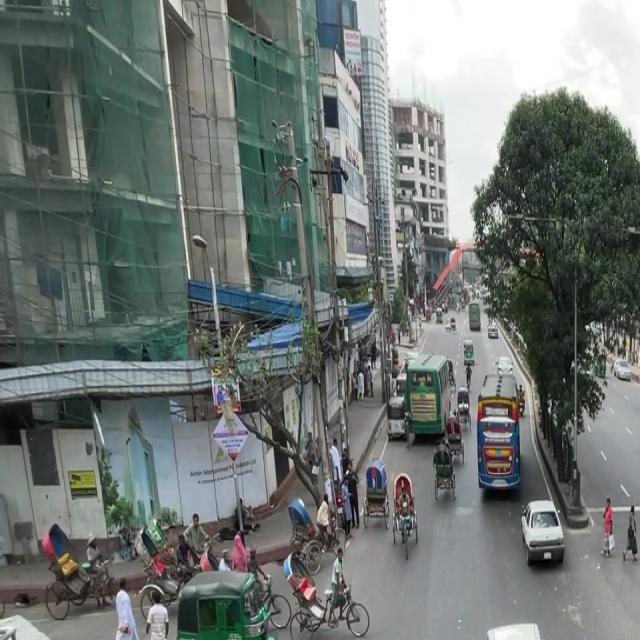bus: (470, 361, 526, 502), (402, 341, 457, 442)
car: (511, 490, 572, 574), (466, 614, 571, 640)
rickshaw: (169, 566, 282, 640)
